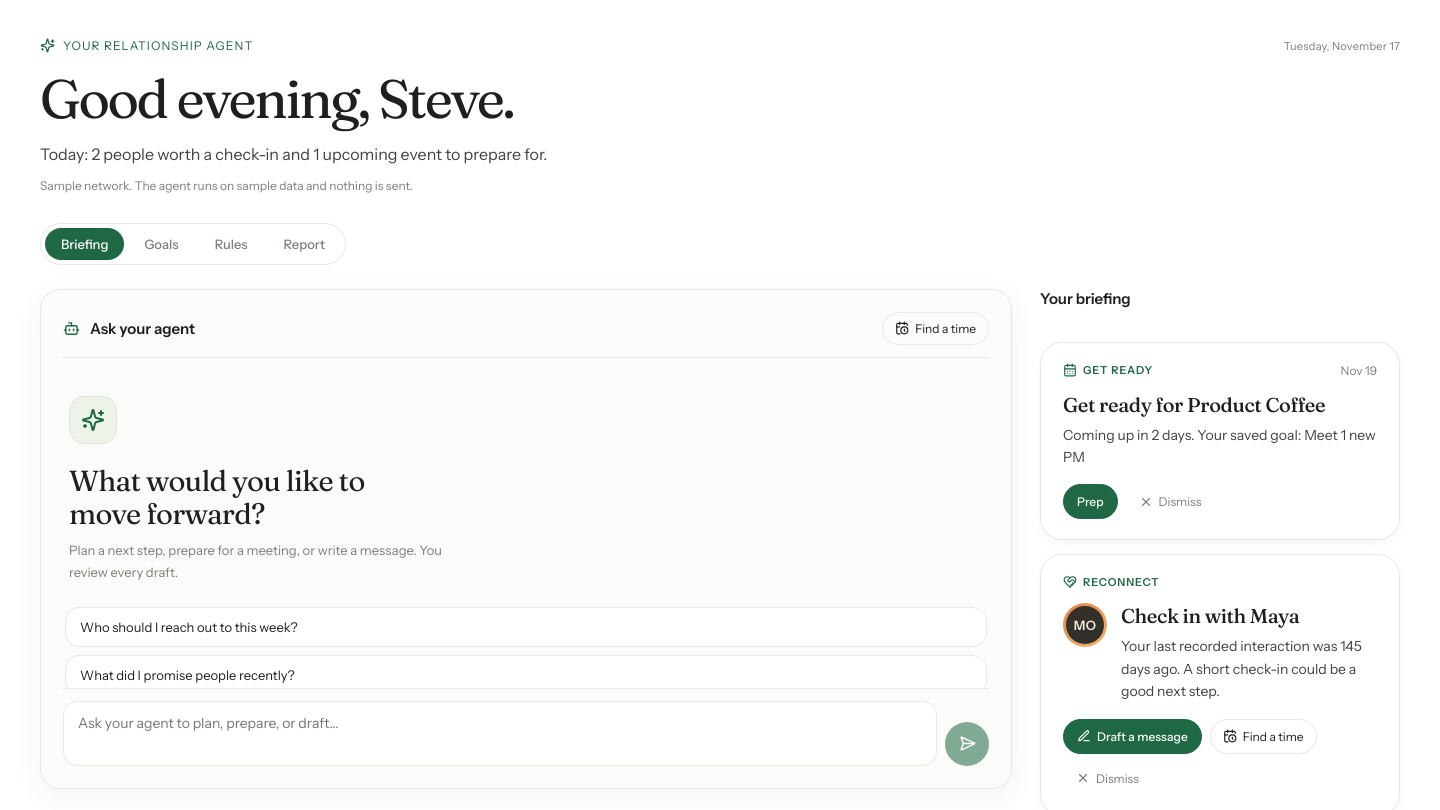
Test case: agent home › preps an upcoming event on-device
Click the button "Prep": (1090,502) [1063, 484, 1118, 519]
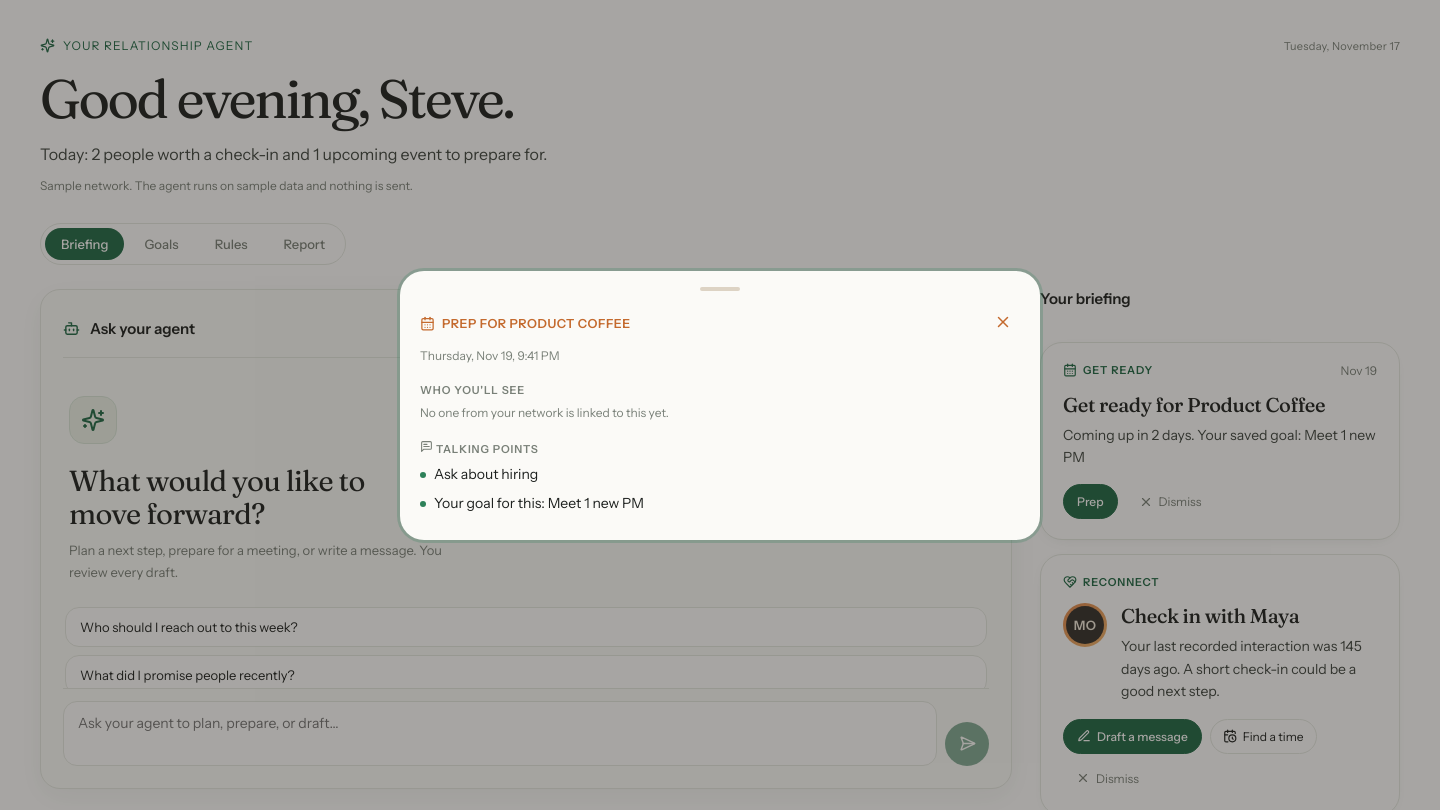
Now the list item "Ask about hiring" is shown, box [434, 464, 538, 482]
